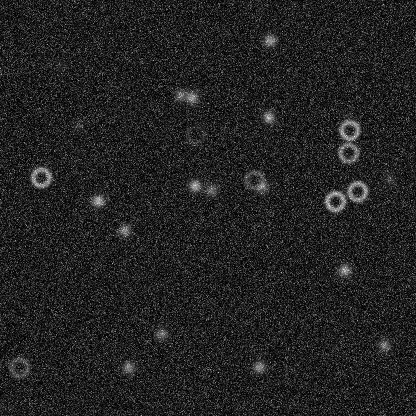Ring: (183, 122, 207, 146), (336, 140, 360, 164), (28, 165, 52, 189), (323, 189, 347, 213), (7, 355, 31, 379), (337, 118, 361, 142), (242, 167, 266, 191), (345, 179, 369, 203)
Spot: (52, 57, 68, 73), (120, 359, 136, 375), (260, 108, 276, 124), (376, 337, 392, 353), (69, 117, 85, 133), (186, 177, 202, 193), (250, 358, 266, 374), (254, 179, 270, 195), (203, 182, 219, 198), (336, 262, 352, 278), (261, 32, 277, 48), (183, 89, 199, 105), (116, 222, 132, 238), (172, 86, 188, 102), (153, 326, 169, 342), (381, 170, 397, 186), (90, 192, 106, 208)
